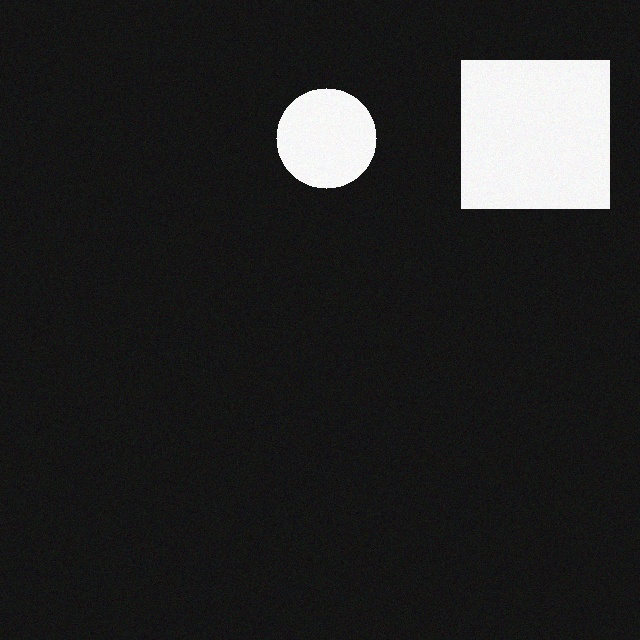circle: (280, 95, 380, 195)
square: (465, 67, 613, 215)
